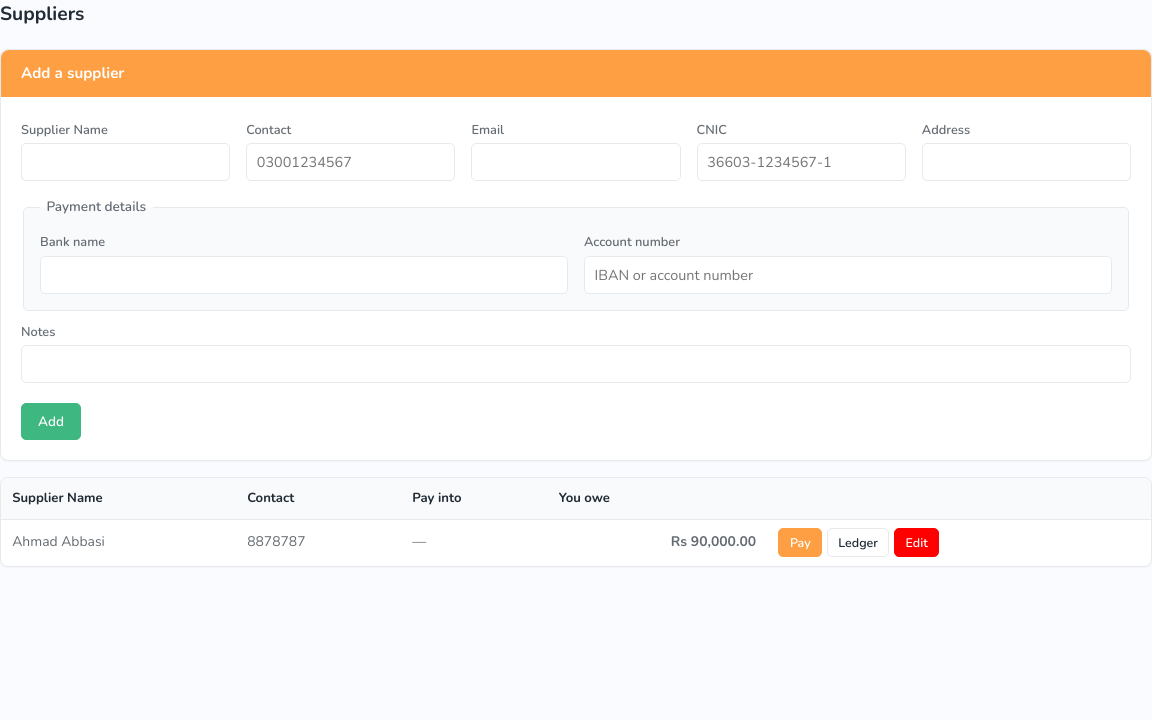
it: paying a supplier › will not record a payment until it says how it was made
Step 1. Click the button "Pay" → (800, 543), box x1=778 y1=528 x2=822 y2=557
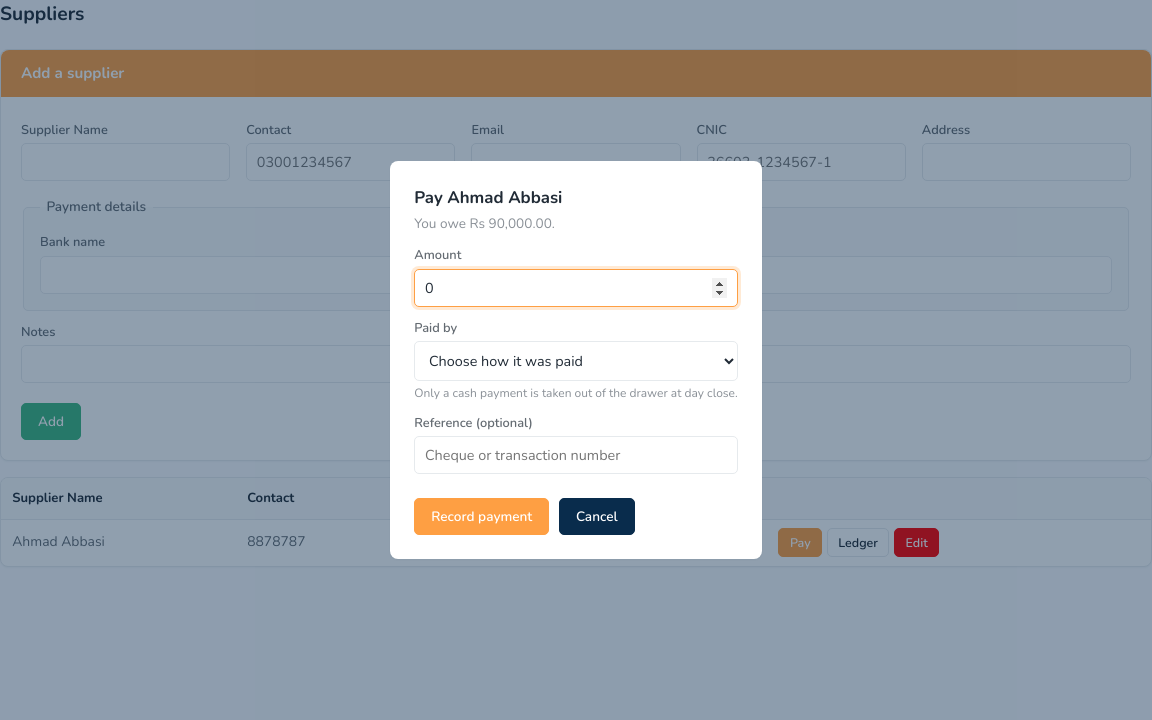
Step 2. Type "5000" into the number field labelled "Amount" → (576, 288), box x1=414 y1=268 x2=738 y2=306
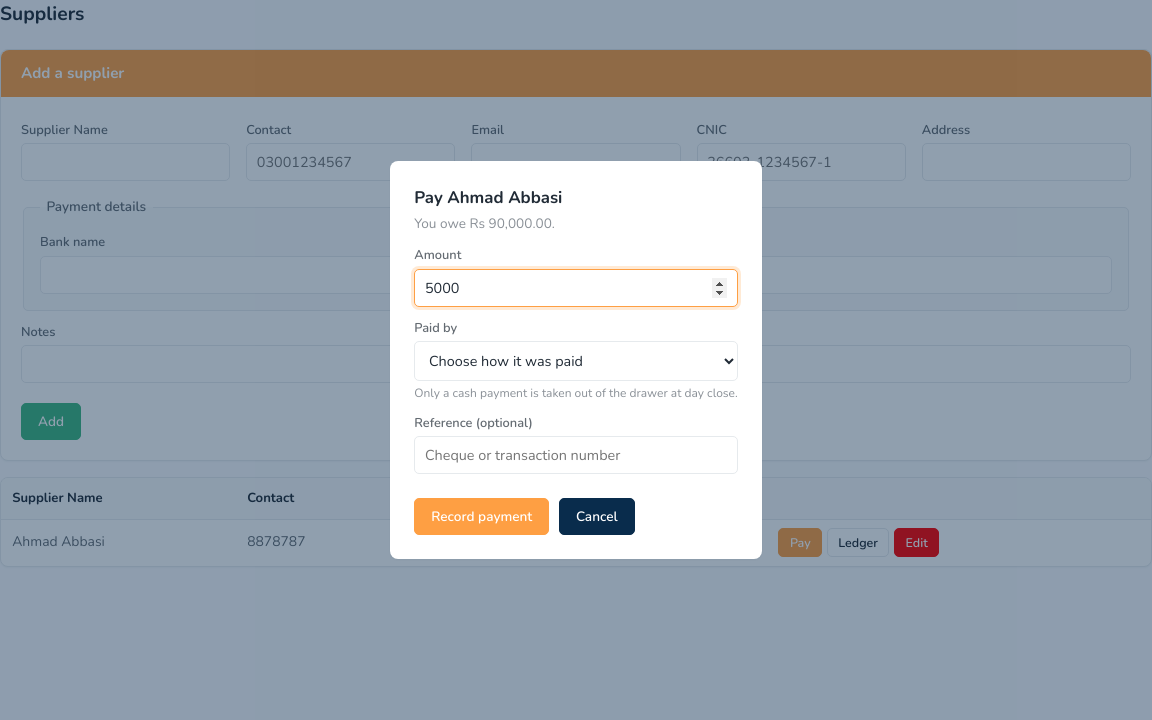
Step 3. Click the button "Record payment" → (482, 517), box x1=414 y1=498 x2=549 y2=535
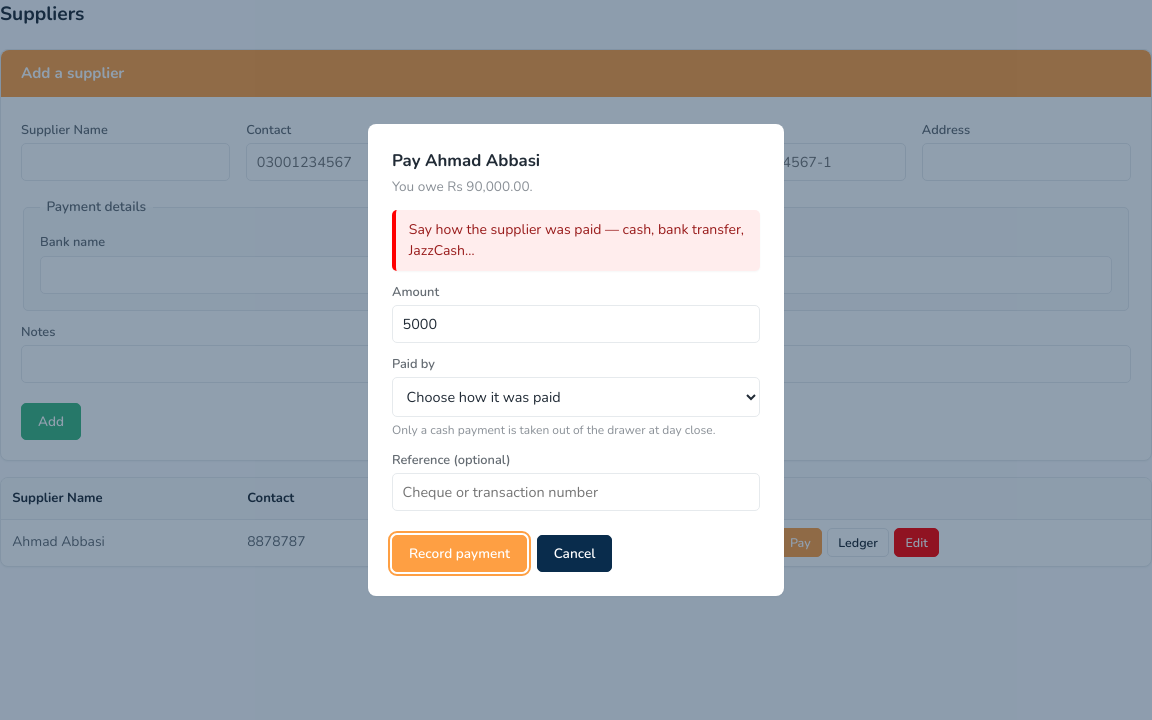
Check: the message shows "how", box x1=409 y1=220 x2=744 y2=260
